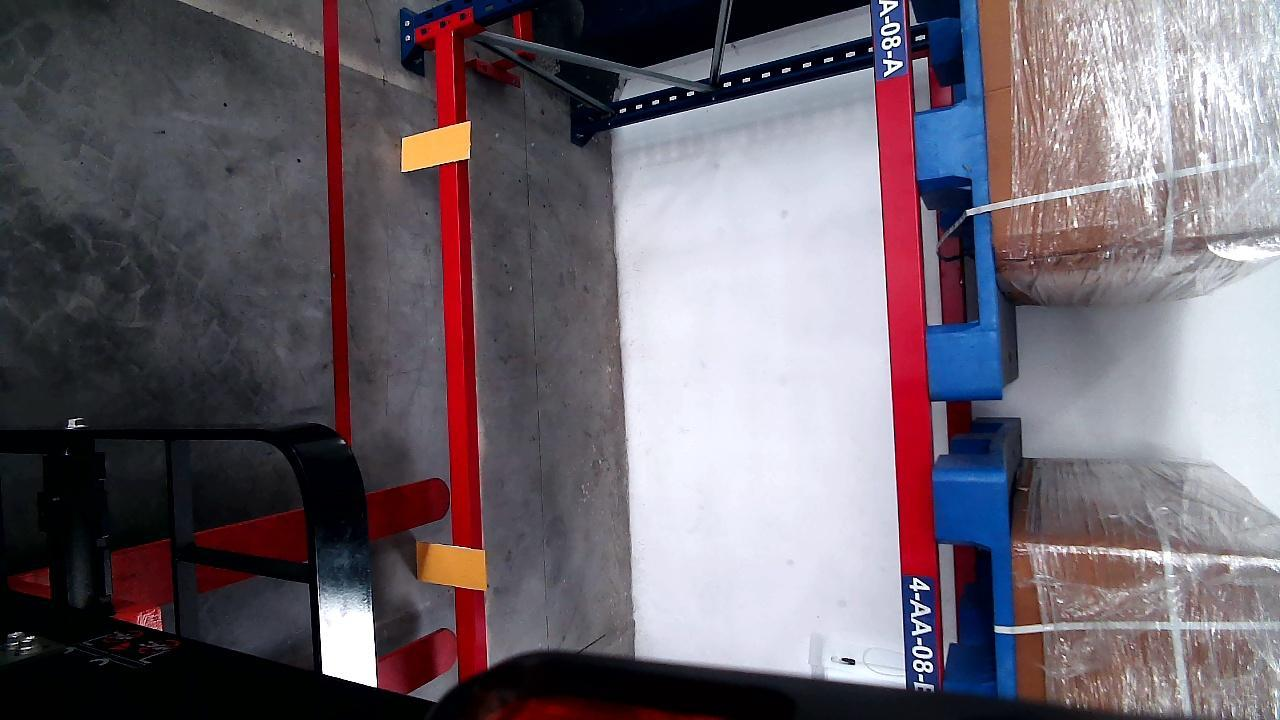red_line: (323, 0, 353, 445)
